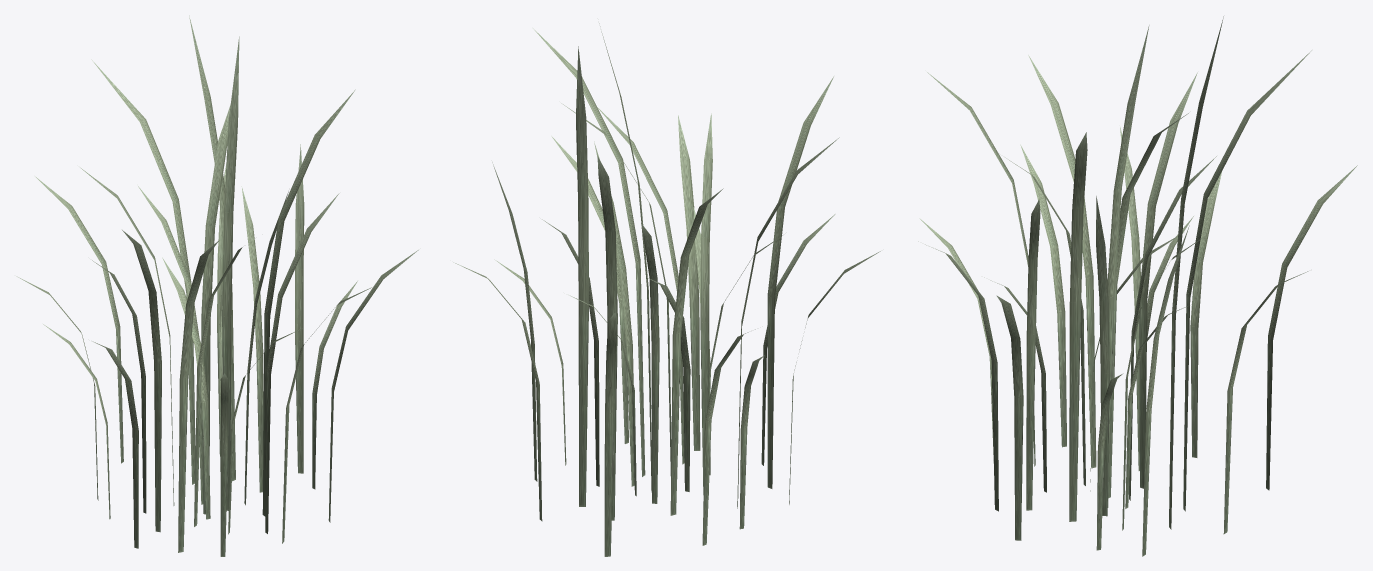
File: Grass - Grass2 5-BSRpsA8B.glb
3 renders of one model, left to right at view 1: azimuth 30°, elevation 25°; view 2: azimuth 150°, elevation 25°; view 3: azimuth 270°, elevation 25°, orthographic. The views are drawn at different scales.
Visible parts, largest first — view 1: Grass2_5_LOD0; view 2: Grass2_5_LOD0; view 3: Grass2_5_LOD0.
Boxes of the visible parts, bbox=[...] form: Grass2_5_LOD0: bbox=[16, 15, 418, 556]; Grass2_5_LOD0: bbox=[453, 23, 880, 556]; Grass2_5_LOD0: bbox=[918, 16, 1357, 556].
Bounding box in the file's own units: 0.8268 × 1.11 × 0.8961.
1 material, 1 textured.
